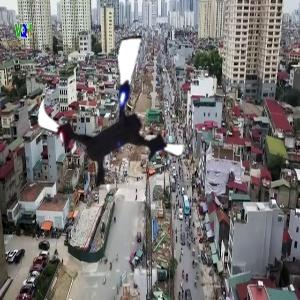drone: (33, 33, 201, 201)
